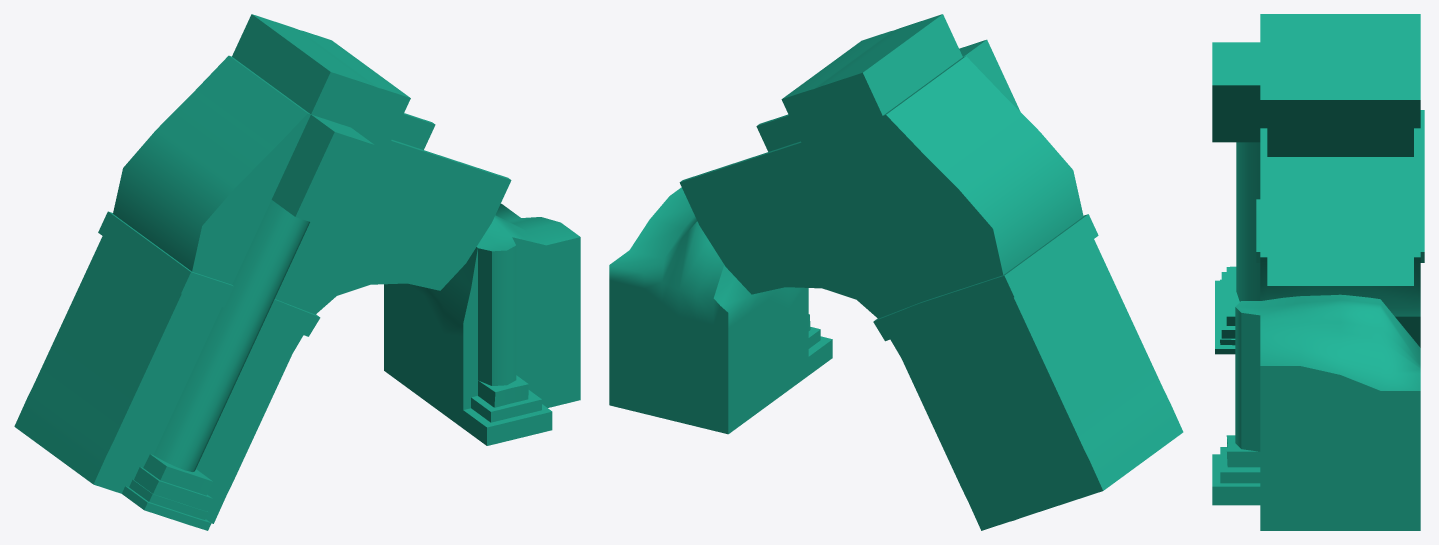
The model's file is RuinedArch_Model_FBX_V1.fbx.
3 renders of one model, left to right at view 1: azimuth 30°, elevation 25°; view 2: azimuth 150°, elevation 25°; view 3: azimuth 270°, elevation 25°, orthographic.
Parts seen in each view (by area): view 1: Low Poly Broken Arch, Low Poly Broken Pillar; view 2: Low Poly Broken Arch, Low Poly Broken Pillar; view 3: Low Poly Broken Arch, Low Poly Broken Pillar.
Boxes of the visible parts, x1=… form: Low Poly Broken Arch: x1=14, y1=14, x2=511, y2=530; Low Poly Broken Pillar: x1=384, y1=203, x2=580, y2=445; Low Poly Broken Arch: x1=679, y1=14, x2=1183, y2=530; Low Poly Broken Pillar: x1=609, y1=187, x2=832, y2=434; Low Poly Broken Arch: x1=1212, y1=14, x2=1424, y2=354; Low Poly Broken Pillar: x1=1212, y1=294, x2=1420, y2=530.
Size of the model in its own units: 355 by 295 by 133.
